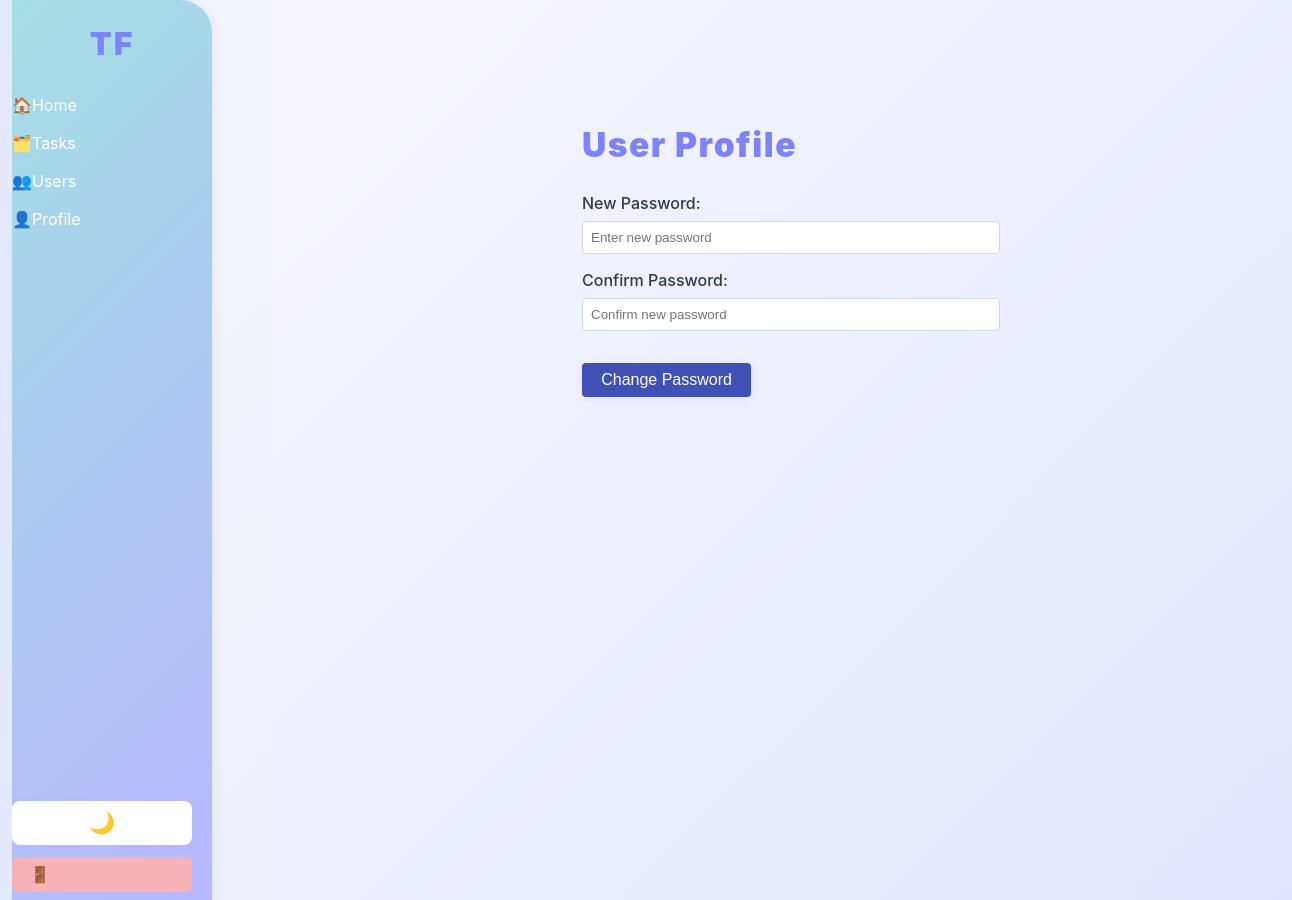
Test case: can activate and cancel edit mode
Step 1. Click the button "Change Password" → (667, 380), box x1=582 y1=363 x2=751 y2=397
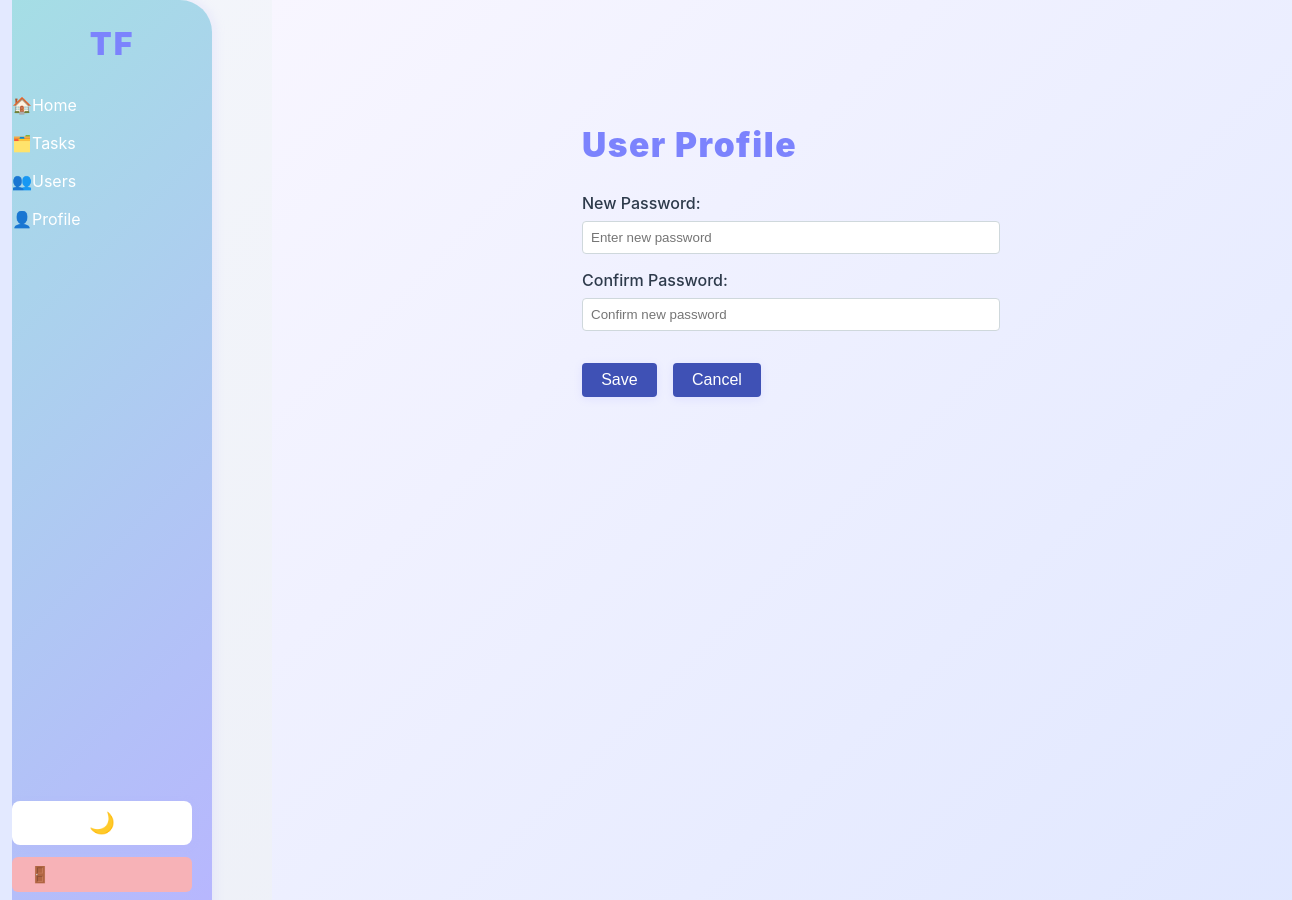
expect the button "Save" is shown: met, box x1=582 y1=363 x2=657 y2=397
Step 2. Click the button "Cancel" → (717, 380), box x1=673 y1=363 x2=761 y2=397
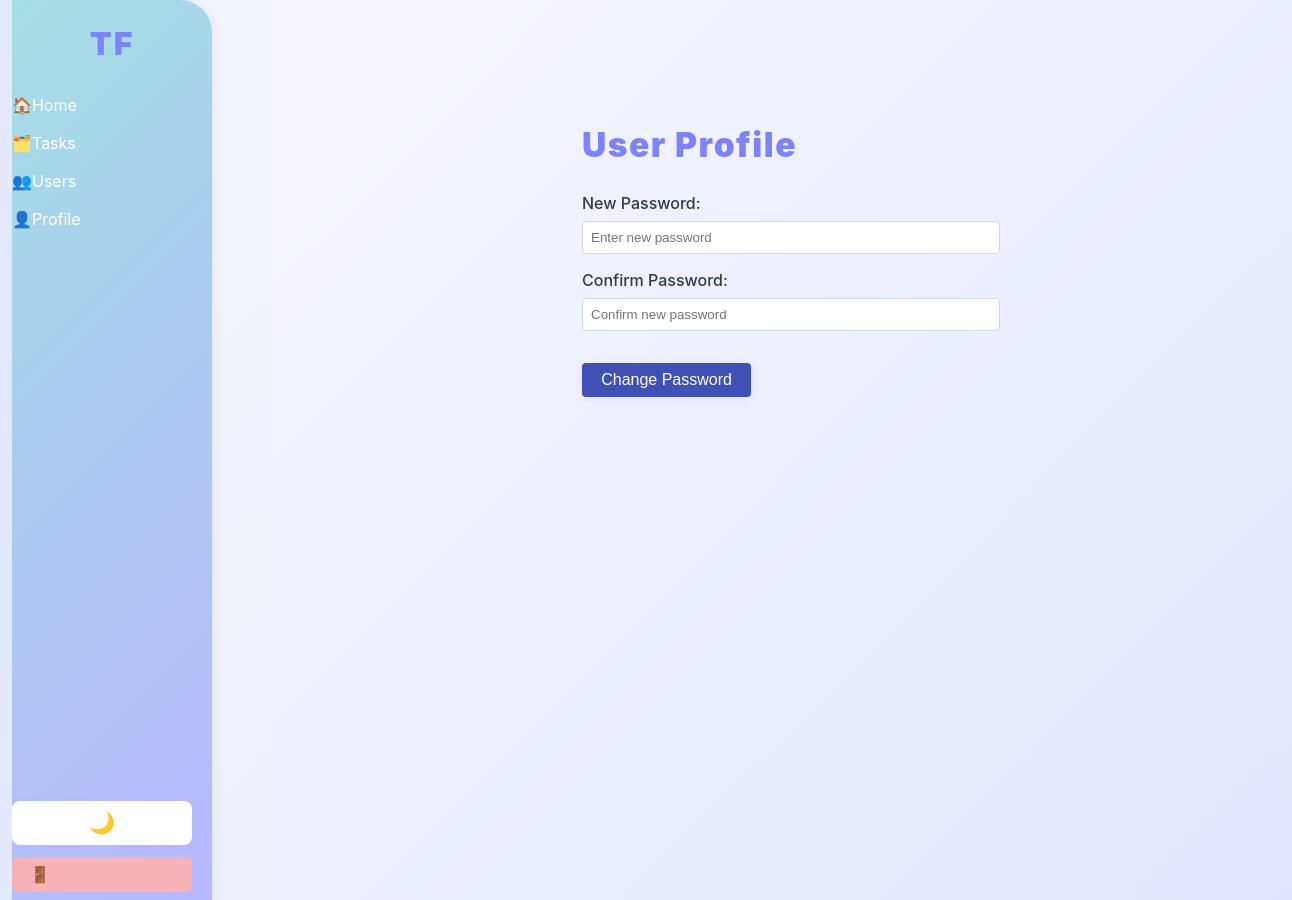
expect the button "Change Password" is shown: met, box x1=582 y1=363 x2=751 y2=397
